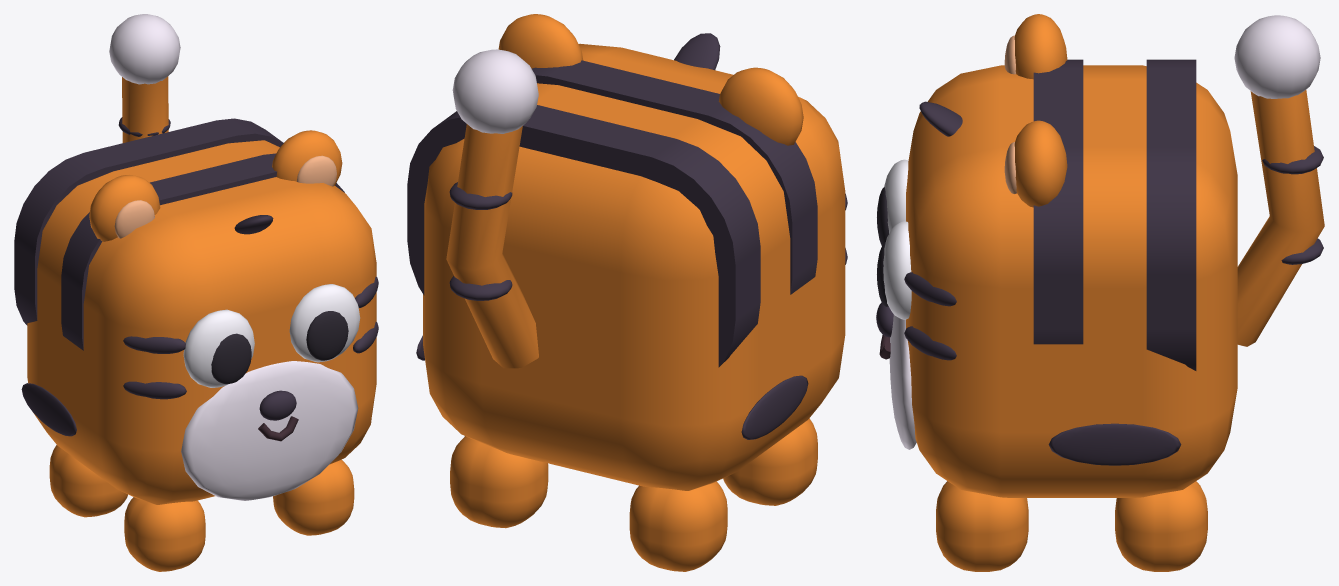
File: pet-tiger.glb
3 views of the same model, side by side, from view 1: azimuth 30°, elevation 25°; view 2: azimuth 150°, elevation 25°; view 3: azimuth 270°, elevation 25° (orthographic). The views are drawn at different scales.
Visible parts, largest first — view 1: body, muzzle, stripe (×2), foot_L_front, foot_R_front, tail_tip, foot_L_back, eye_white_-1, eye_white_1, tail, ear_-1, ear_1 (+8 smaller); view 2: body, stripe (×2), tail, foot_L_back, foot_R_back, tail_tip, foot_L_front, ear_-1, ear_1, low_stripe, tail_stripe (×2), forehead_stripe; view 3: body, stripe (×2), tail, foot_R_back, foot_R_front, tail_tip, low_stripe, ear_1, ear_-1, muzzle, eye_white_1, cheek_stripe (×2) (+3 smaller).
Boxes of the visible parts, x1,y1,x2,y2 form: body: [27, 140, 376, 504]; muzzle: [181, 361, 358, 500]; stripe (×2): [14, 118, 344, 350]; foot_L_front: [124, 497, 205, 571]; foot_R_front: [273, 459, 354, 535]; tail_tip: [109, 14, 180, 84]; foot_L_back: [49, 445, 127, 517]; eye_white_-1: [183, 309, 254, 387]; eye_white_1: [289, 284, 360, 362]; tail: [122, 76, 168, 142]; ear_-1: [89, 175, 160, 241]; ear_1: [272, 130, 342, 185]; body: [423, 43, 845, 490]; stripe (×2): [407, 60, 817, 367]; tail: [446, 124, 538, 368]; foot_L_back: [629, 481, 727, 571]; foot_R_back: [450, 436, 548, 528]; tail_tip: [452, 49, 538, 133]; foot_L_front: [723, 418, 817, 505]; ear_-1: [718, 67, 803, 145]; ear_1: [498, 14, 583, 68]; low_stripe: [741, 375, 808, 439]; tail_stripe (×2): [449, 182, 512, 300]; forehead_stripe: [674, 33, 720, 70]; body: [906, 65, 1237, 497]; stripe (×2): [1033, 59, 1196, 370]; tail: [1237, 90, 1324, 346]; foot_R_back: [1115, 481, 1207, 571]; foot_R_front: [936, 481, 1028, 571]; tail_tip: [1234, 15, 1320, 98]; low_stripe: [1048, 423, 1181, 465]; ear_1: [1014, 120, 1067, 207]; ear_-1: [1014, 14, 1067, 79]; muzzle: [889, 314, 916, 449]; eye_white_1: [883, 221, 911, 319]; cheek_stripe (×2): [904, 272, 956, 360].
Bounding box in the file's own units: 1.15 × 1.73 × 1.35.
